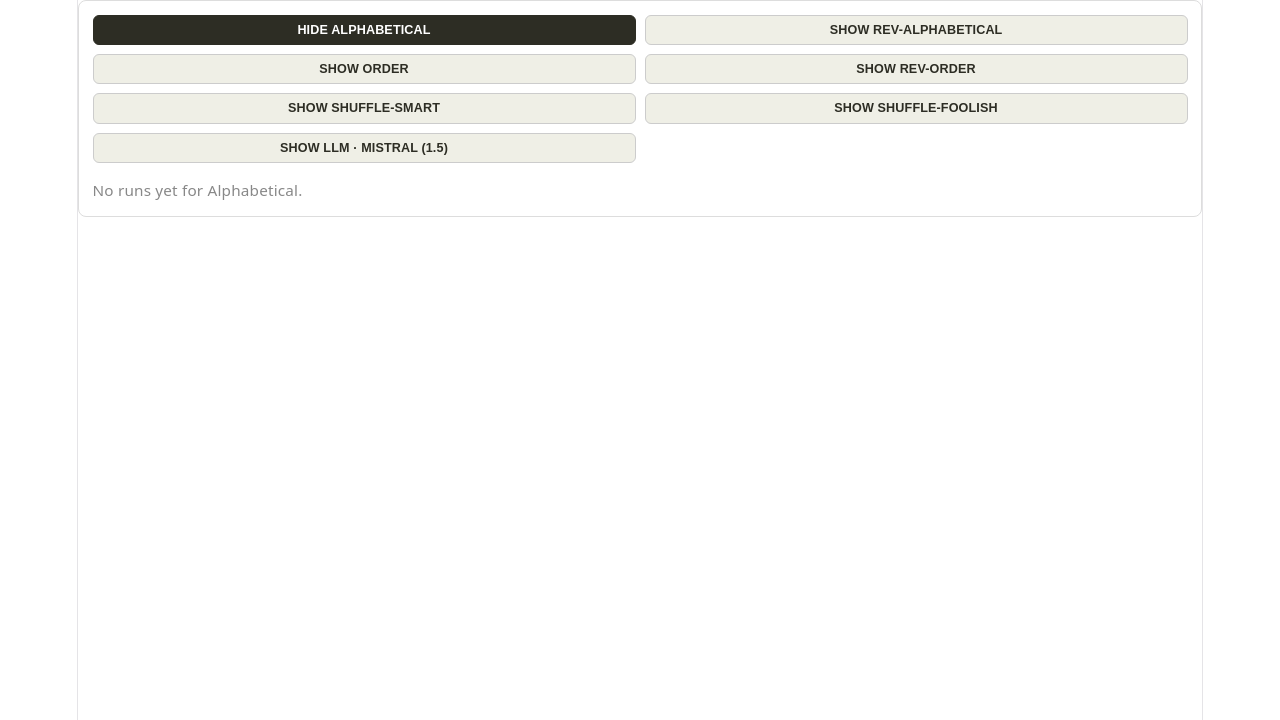
Test: GuessSequencePanel Component › differentiates between two different models under the same provider
Click the button "Show LLM · Mistral (1.5)" at x=364, y=148, box [92,133,636,163]
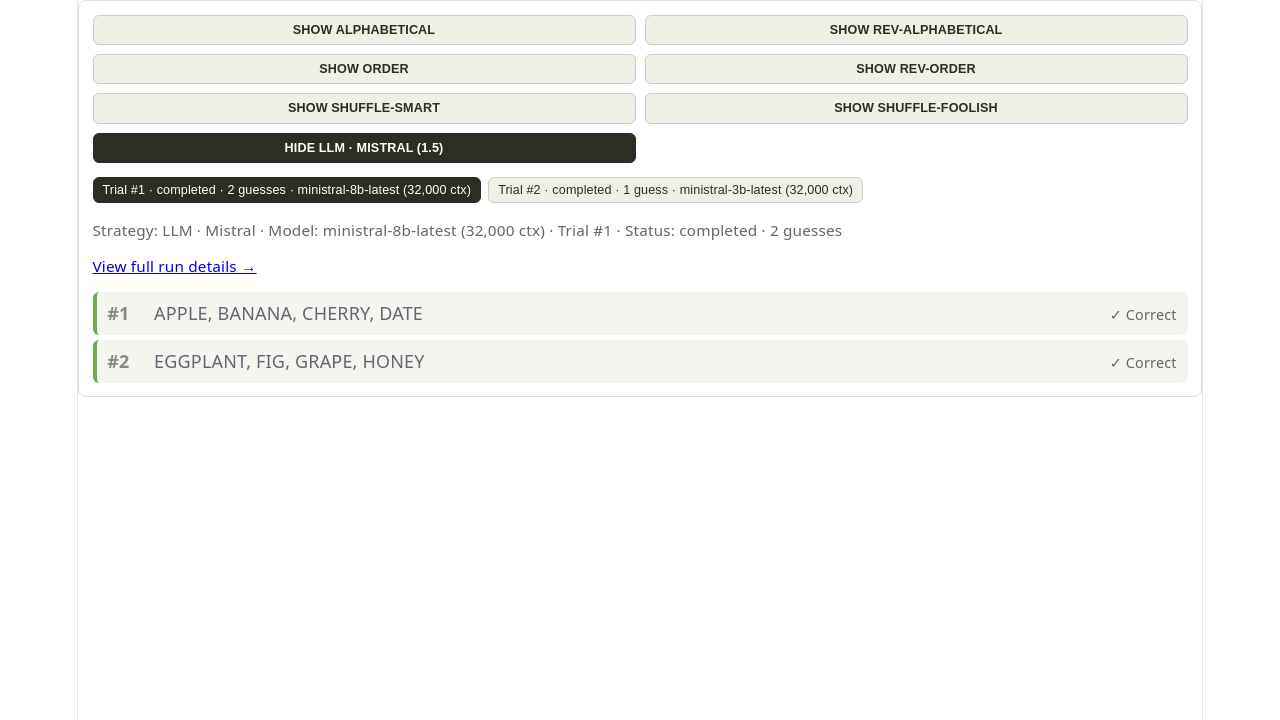
Expected: the text "Strategy: LLM · Mistral · Model: ministral-8b-latest (32,000 ctx) · Trial #1 · Status: completed · 2 guesses" is shown, [92,220,842,240]
Expected: the text "EGGPLANT, FIG, GRAPE, HONEY" is shown, [154,348,425,372]
Click the button "Trial #2" at x=676, y=190, box [488,176,863,203]
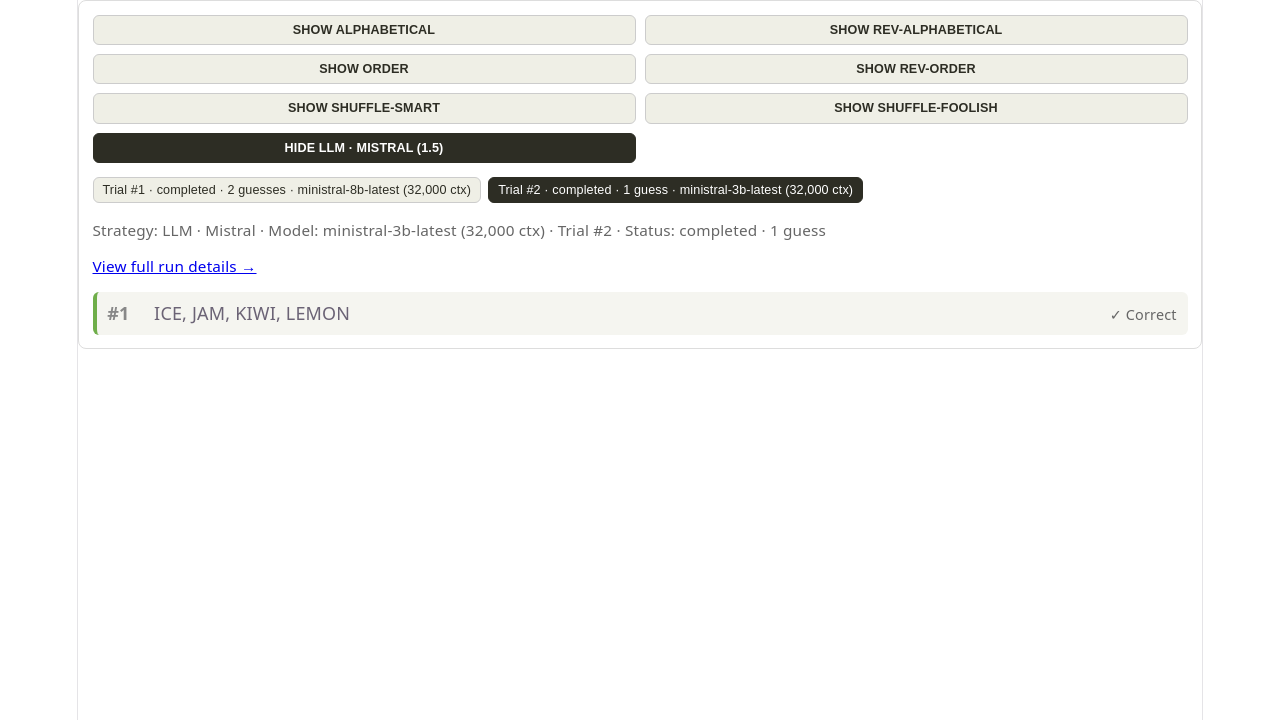
Expected: the text "Strategy: LLM · Mistral · Model: ministral-3b-latest (32,000 ctx) · Trial #2 · Status: completed · 1 guess" is shown, [92,220,826,240]
Expected: the text "ICE, JAM, KIWI, LEMON" is shown, [154,301,350,325]
Expected: the text "EGGPLANT, FIG, GRAPE, HONEY" is gone
